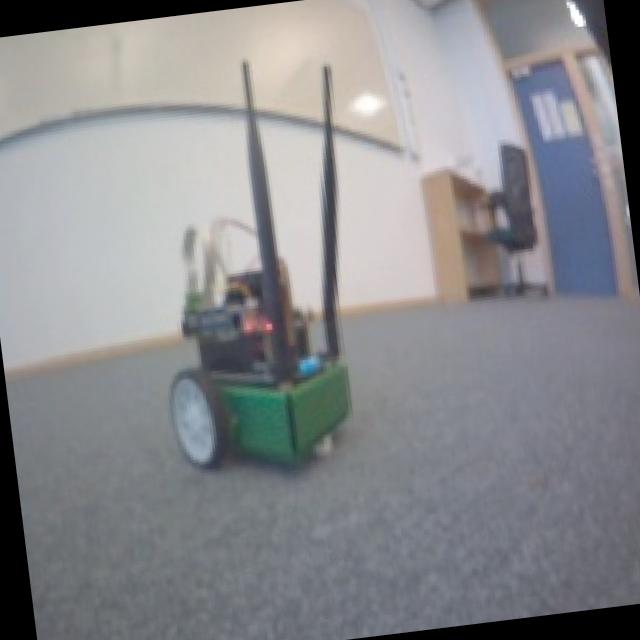robot: (152, 258, 366, 482)
